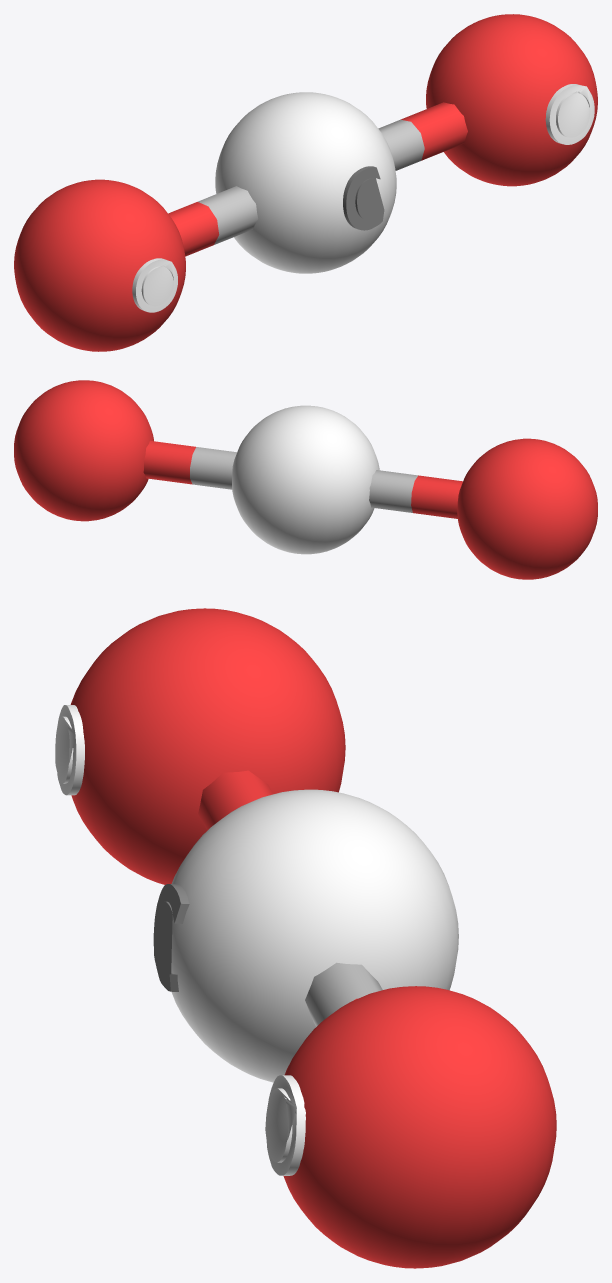
The picture shows the model from 3 angles, top to bottom: view 1: azimuth 30°, elevation 25°; view 2: azimuth 150°, elevation 25°; view 3: azimuth 270°, elevation 25°; orthographic projection. The views are drawn at different scales.
Parts seen in each view (by area): view 1: C02.001; view 2: C02.001; view 3: C02.001.
Part boxes in pixels (x1,y1,x2,y2): C02.001: (14,14,597,351); C02.001: (14,380,597,579); C02.001: (55,608,556,1268).
Size of the model in its own units: 306 by 77 by 130.
